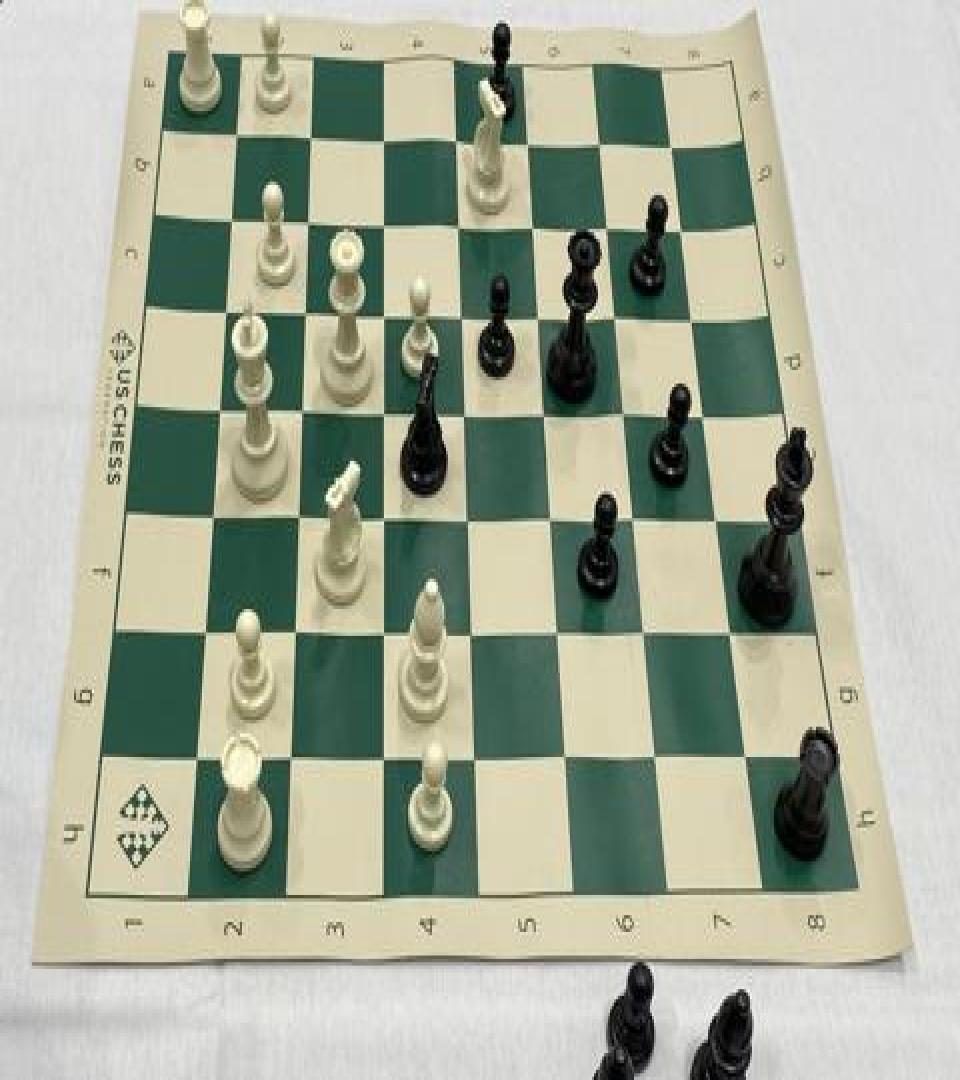xcorner: (370, 114, 392, 152), (297, 112, 319, 150), (370, 198, 392, 236), (622, 494, 644, 532), (538, 494, 560, 532), (454, 494, 476, 532), (660, 119, 682, 156), (588, 119, 610, 156), (516, 118, 538, 155), (443, 116, 465, 153), (223, 111, 245, 148), (596, 202, 618, 239), (521, 202, 543, 239), (446, 200, 468, 237), (294, 197, 316, 234), (218, 197, 240, 234), (681, 294, 703, 331), (604, 293, 626, 330), (526, 291, 548, 328), (448, 291, 470, 328), (693, 391, 715, 428), (612, 391, 634, 428), (532, 388, 554, 425), (451, 388, 473, 425), (369, 387, 391, 424), (287, 387, 309, 424), (205, 385, 227, 422), (705, 497, 727, 534), (369, 493, 391, 530), (284, 493, 306, 530), (198, 493, 220, 530), (719, 609, 741, 646), (632, 609, 654, 646), (545, 609, 567, 646), (457, 609, 479, 646), (369, 609, 391, 646), (280, 609, 302, 646), (670, 204, 692, 240), (370, 290, 392, 326), (291, 288, 313, 324), (211, 288, 233, 324), (190, 608, 212, 644), (734, 734, 756, 770), (643, 734, 665, 770), (552, 734, 574, 770), (460, 734, 482, 770), (368, 734, 390, 770), (275, 734, 297, 770), (182, 734, 204, 770)
